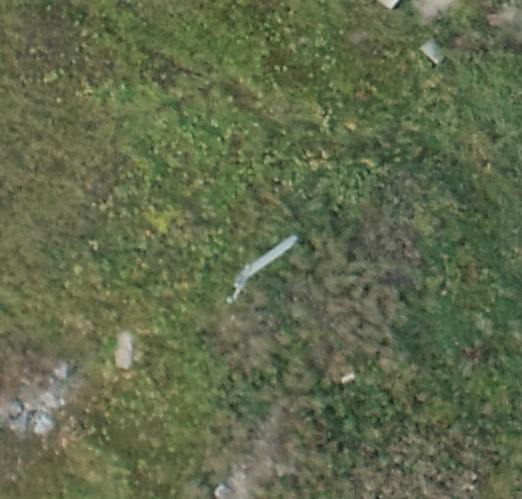opora: (226, 232, 297, 303)
